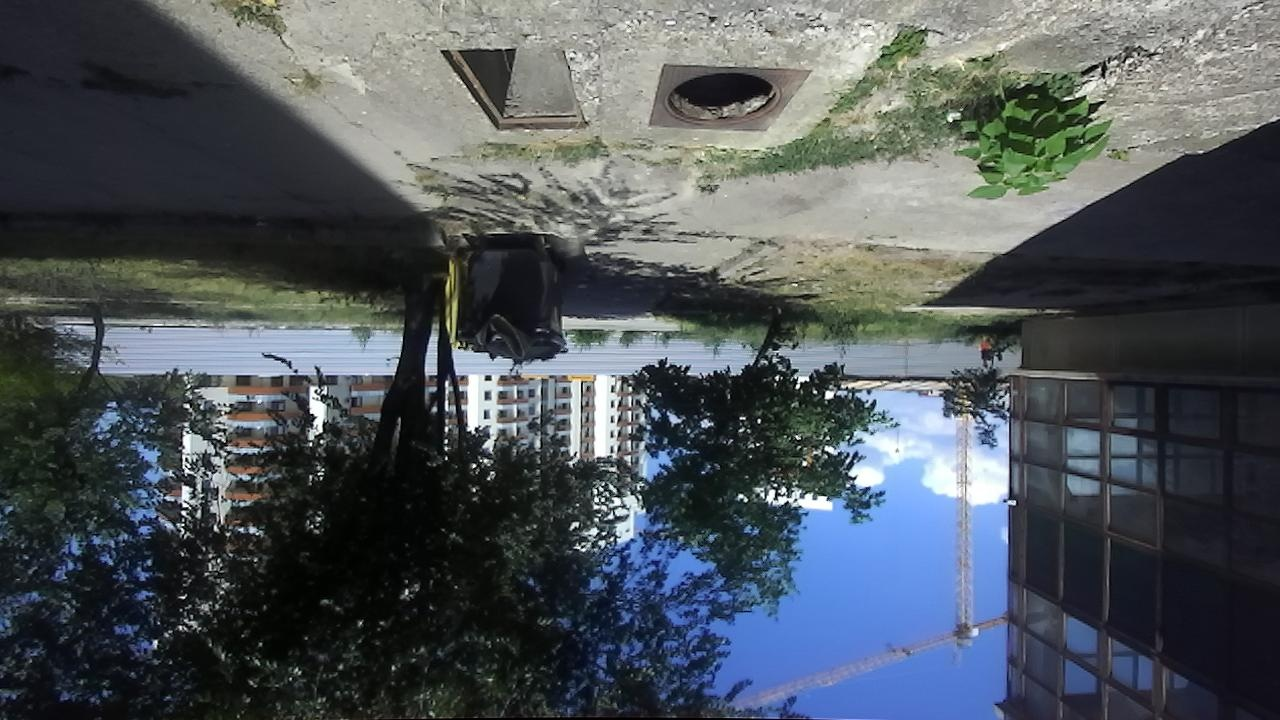drain: (431, 45, 590, 133), (662, 73, 787, 128)
